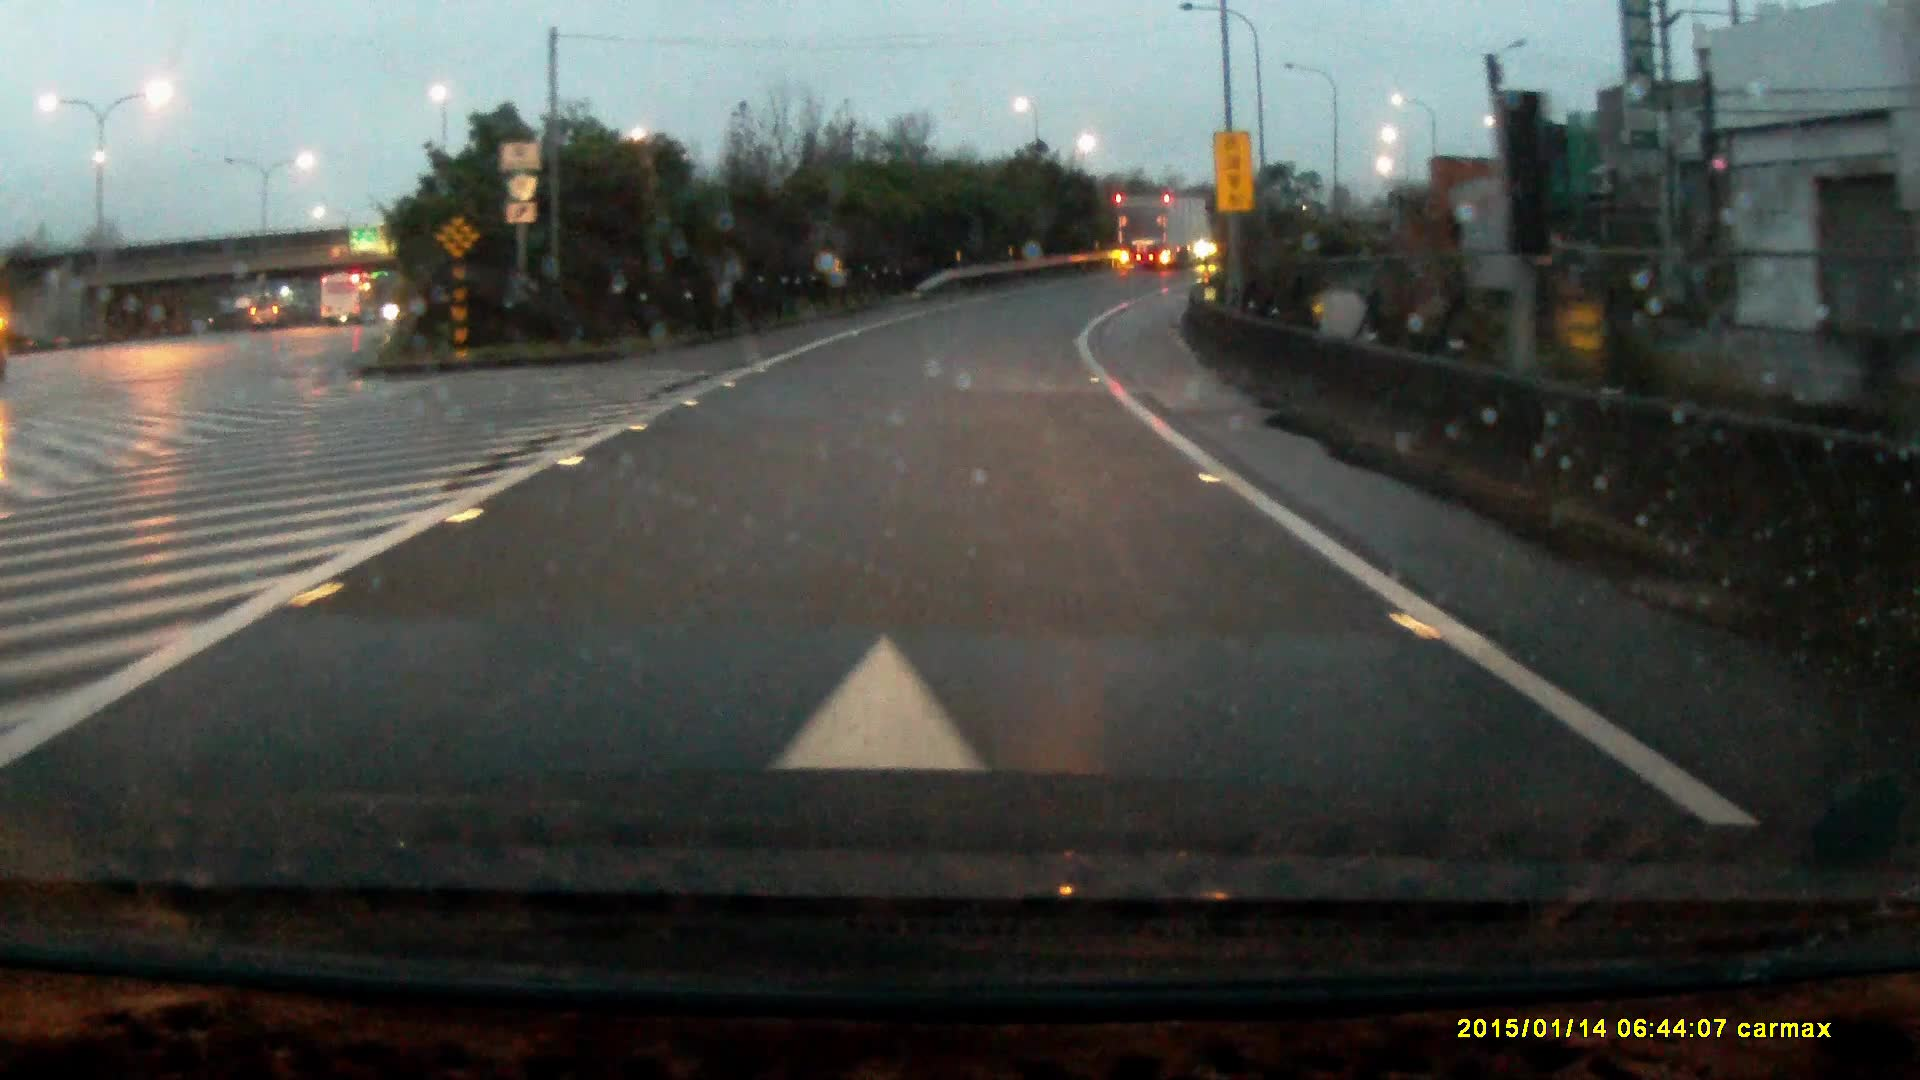vehicle: (1116, 196, 1215, 276), (319, 273, 376, 328), (251, 305, 285, 334)
